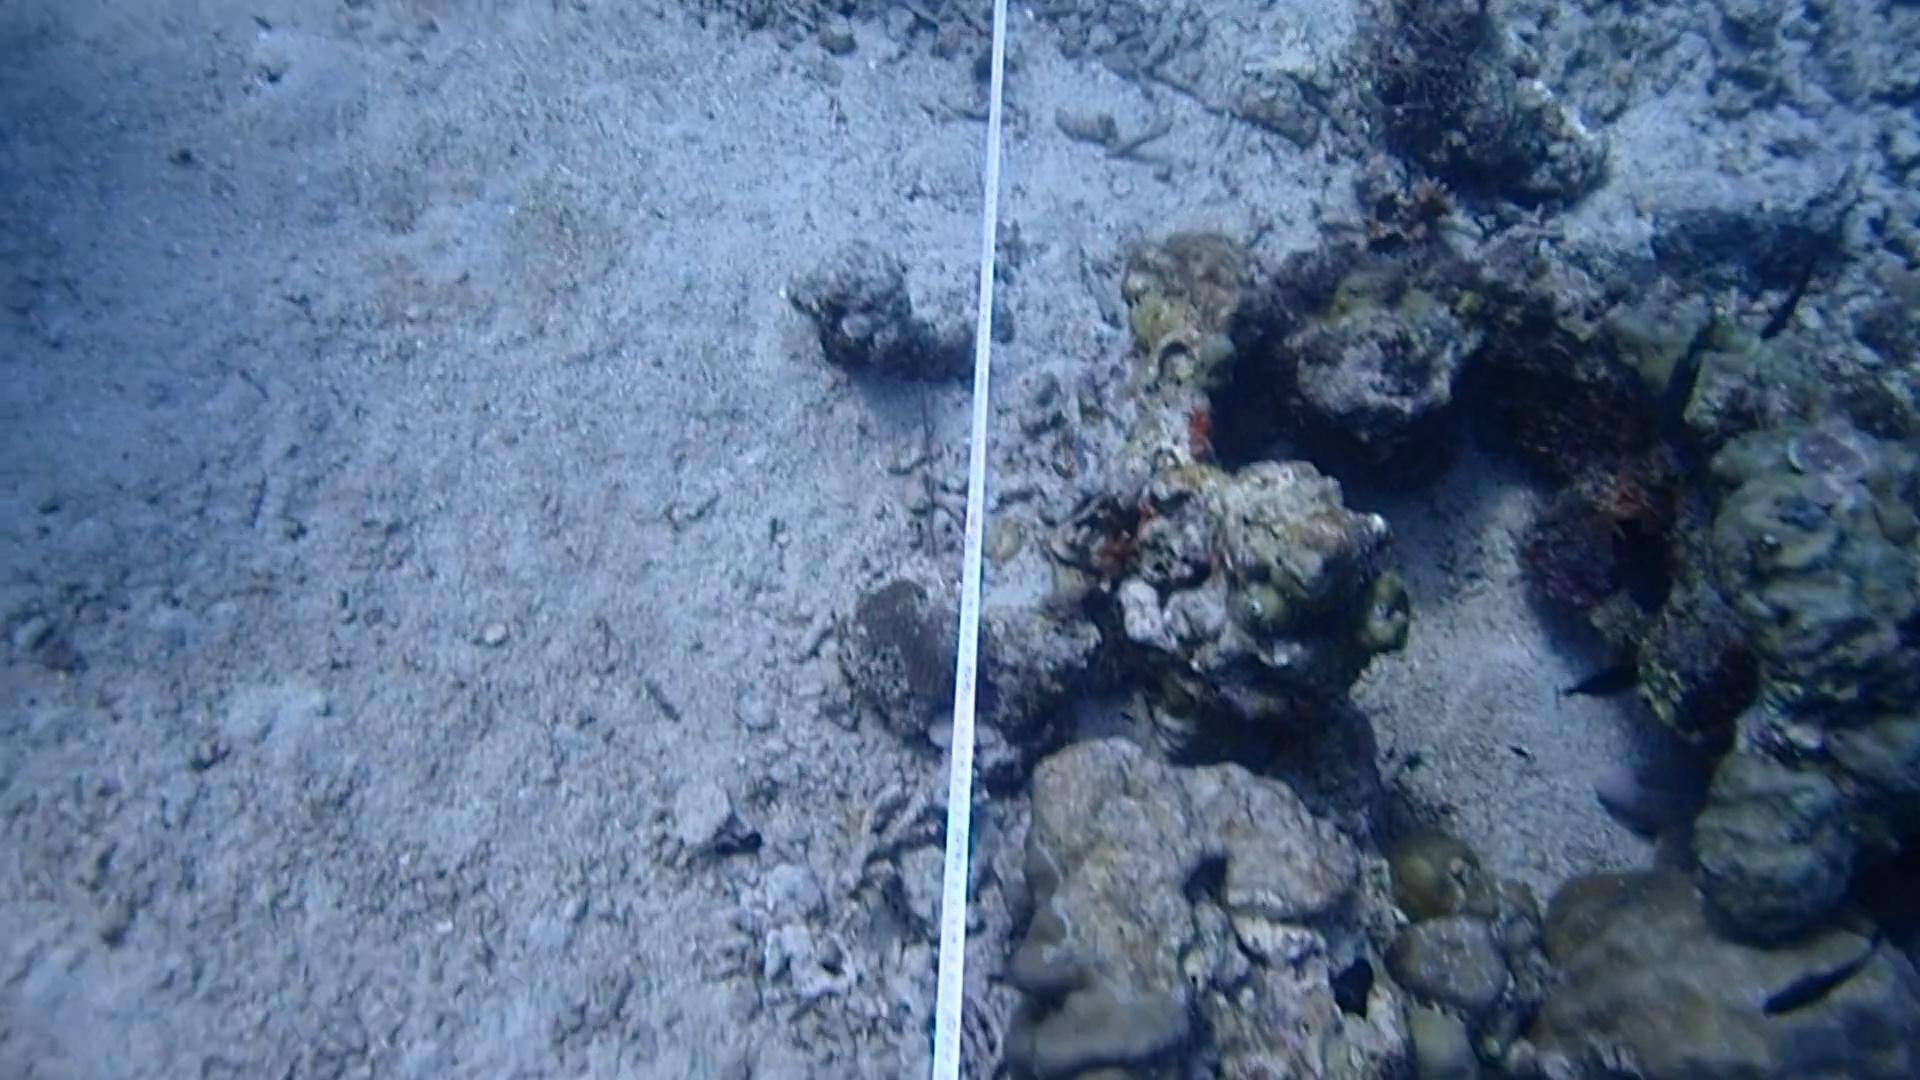Dark Fish: (1745, 915, 1894, 1038), (1600, 506, 1679, 615), (1655, 307, 1718, 440), (1747, 251, 1830, 345), (1544, 657, 1655, 724)
